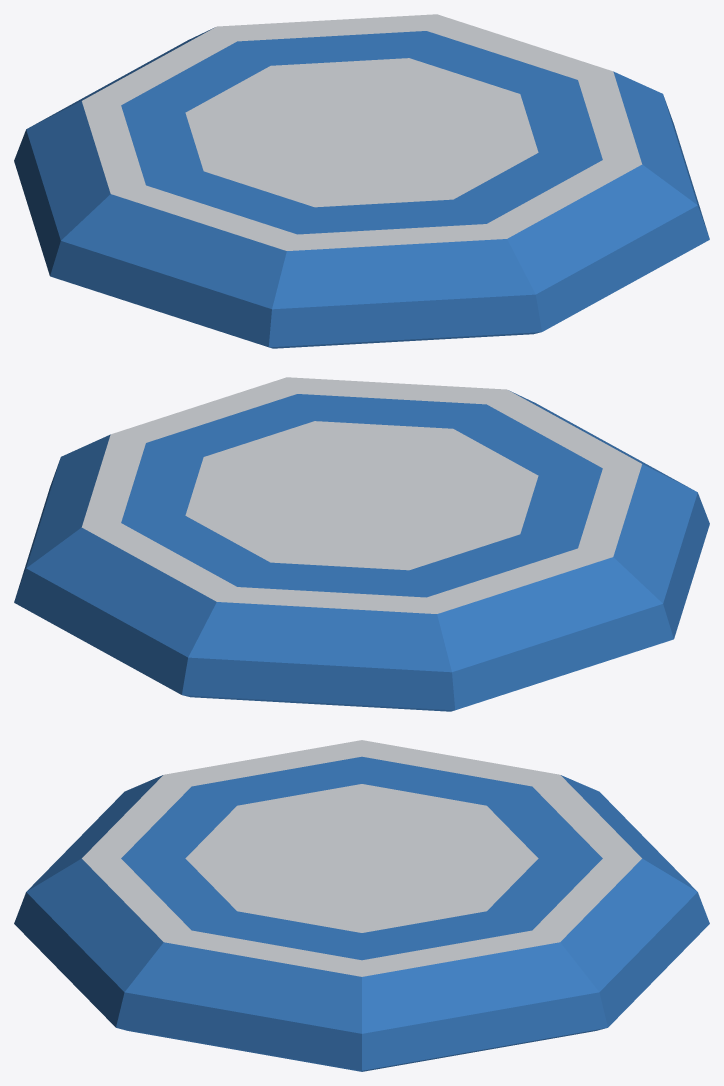
The model's file is SM_Item_Frisbee_01.fbx.
3 views of the same model, one above another, from view 1: azimuth 30°, elevation 25°; view 2: azimuth 150°, elevation 25°; view 3: azimuth 270°, elevation 25° (orthographic). The views are drawn at different scales.
Visible parts, largest first — view 1: SM_Item_Frisbee_01; view 2: SM_Item_Frisbee_01; view 3: SM_Item_Frisbee_01.
Boxes of the visible parts, <box> form: SM_Item_Frisbee_01: <box>14,14,709,348</box>; SM_Item_Frisbee_01: <box>14,377,709,711</box>; SM_Item_Frisbee_01: <box>14,740,709,1071</box>.
Size of the model in its own units: 40.09 by 4.66 by 40.09.
